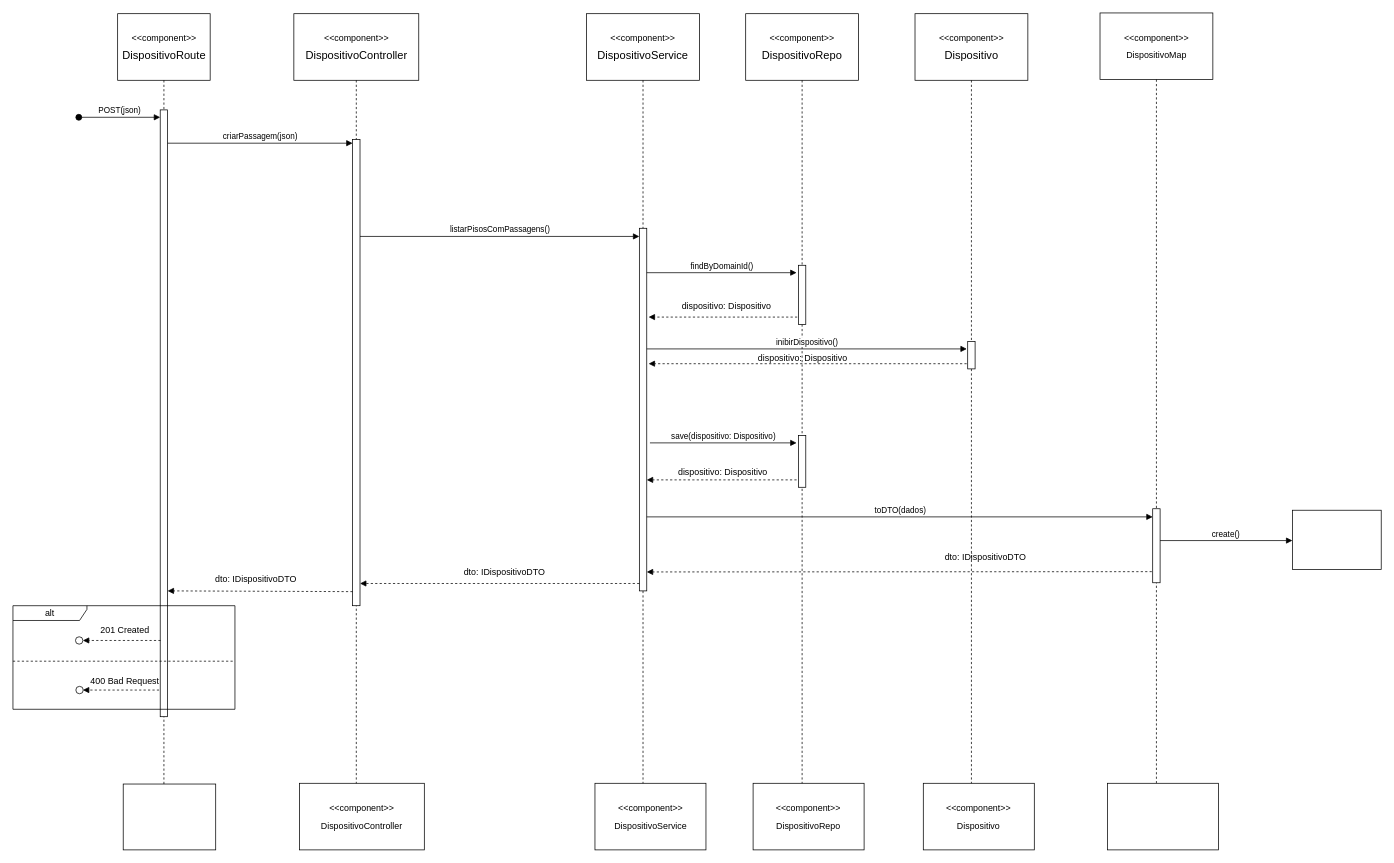
The diagram is 1394 pixels wide and 863 high, and some of its shapes have lost their labels. Here are the shapes that lost their labels. From the top down, the centre of each, then its label:
At (x=1336, y=539): "<<component>> IDispositivoDTO".
At (x=169, y=816): "<<component>> RoutePassagem".
At (x=1162, y=816): "<<component>> PassagemMap".
